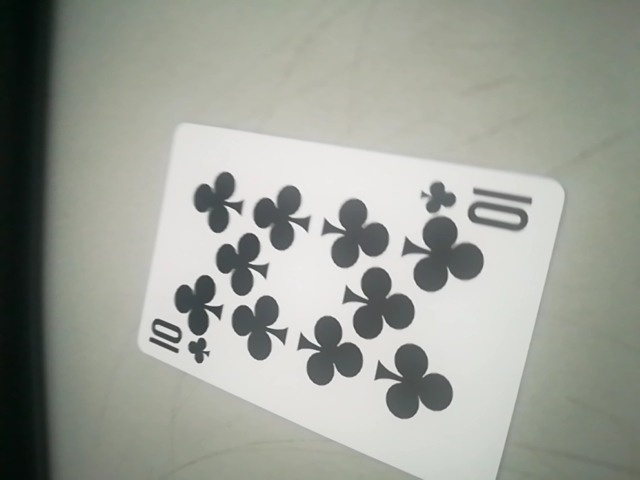mh 10: (131, 126, 574, 480)
